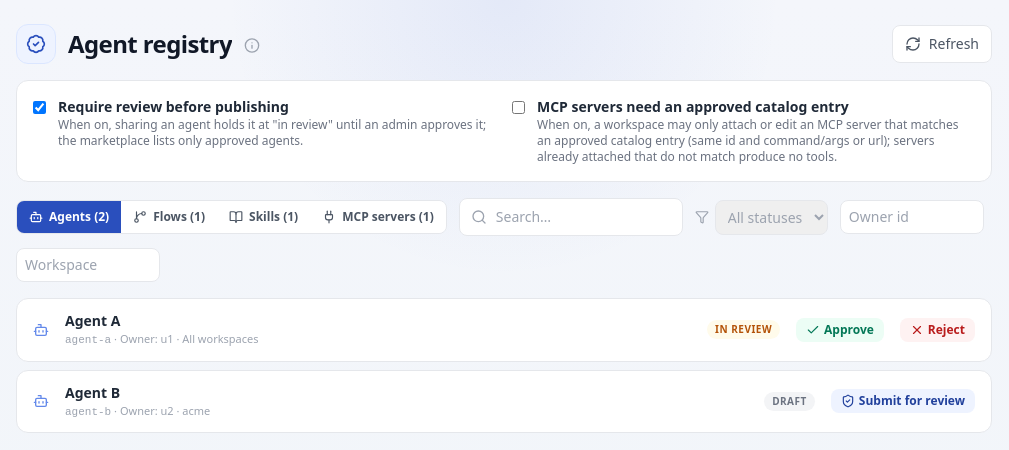
AgentRegistry — an admin viewer › switches to the Skills tab and lists its draft skill
Expected: the text "Agent A" is shown, [65,311,120,330]
Click the button "Skills (1)": click(264, 217) [217,201,310,233]
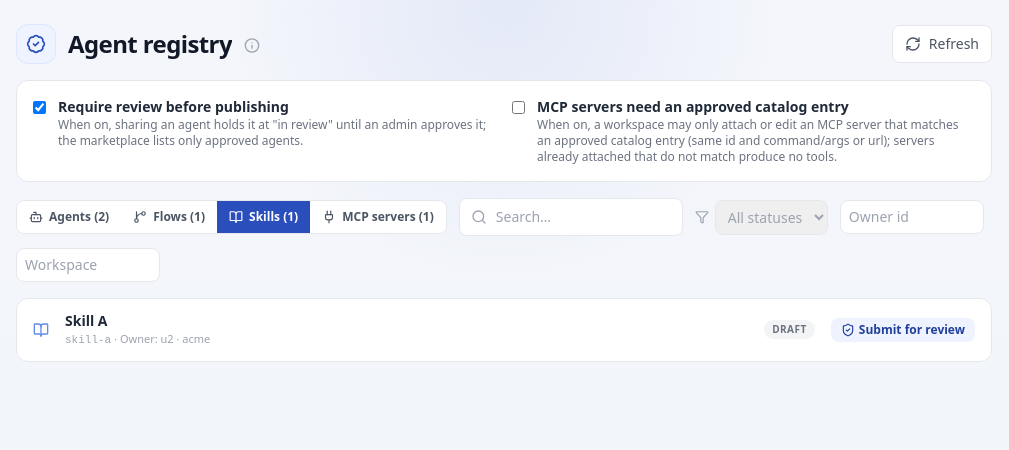
Expected: the text "Skill A" is shown, [65,311,108,330]
